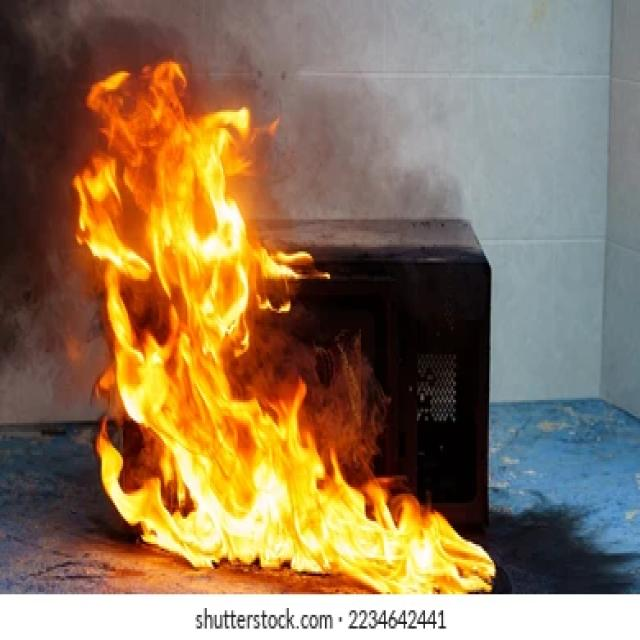fire: (74, 32, 356, 571), (341, 489, 493, 593)
